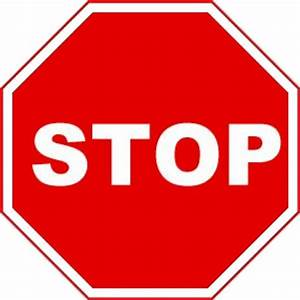stop: (2, 2, 300, 300)
